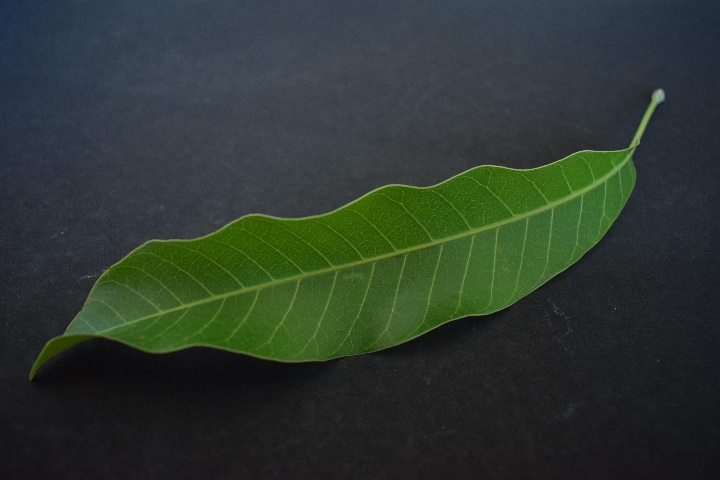healthy: (35, 145, 656, 363)
